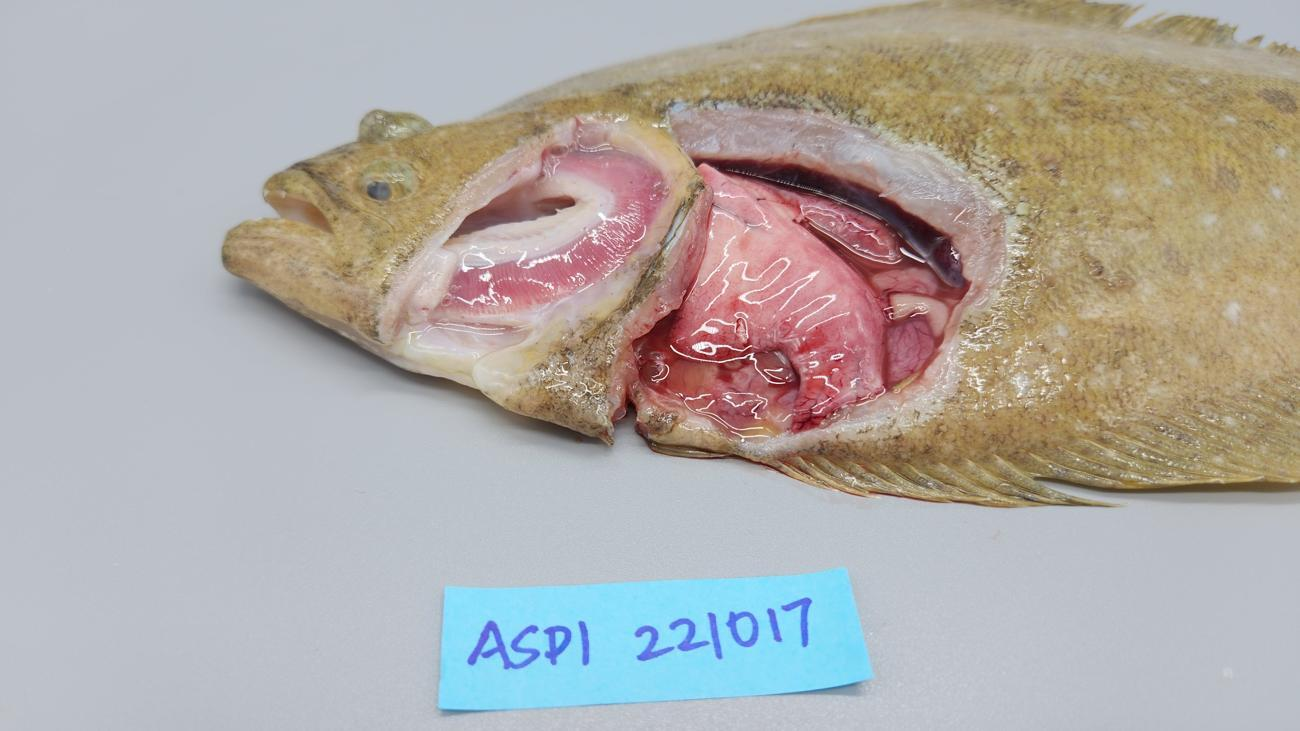SPGIP: (435, 149, 665, 314)
